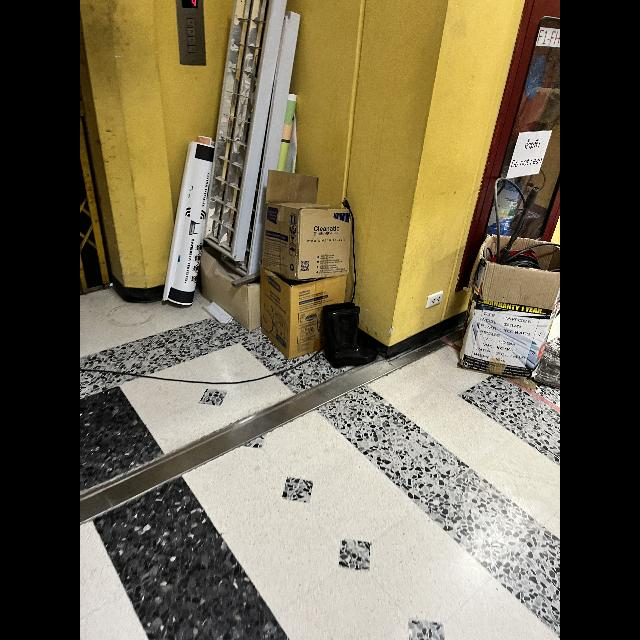cardboard_box: (450, 229, 560, 381), (249, 176, 369, 280), (258, 260, 352, 356), (193, 248, 259, 332)
